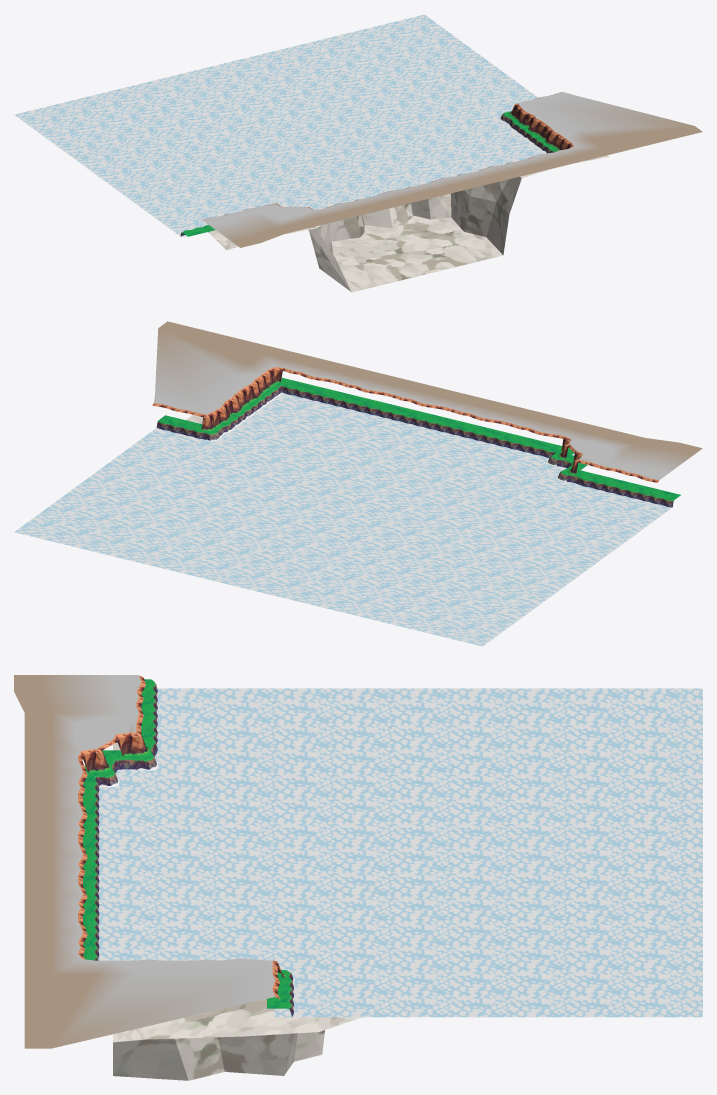
The picture shows the model from 3 angles, top to bottom: view 1: azimuth 30°, elevation 25°; view 2: azimuth 150°, elevation 25°; view 3: azimuth 270°, elevation 25°; orthographic projection. The views are drawn at different scales.
Parts seen in each view (by area): view 1: vsn_mesh_5_mesh5, vsn_mesh_2_mesh2, vsn_mesh_3_mesh3, vsn_mesh_4_mesh4; view 2: vsn_mesh_5_mesh5, vsn_mesh_3_mesh3, vsn_mesh_0_mesh0, vsn_mesh_1_mesh1, vsn_mesh_4_mesh4; view 3: vsn_mesh_5_mesh5, vsn_mesh_3_mesh3, vsn_mesh_2_mesh2, vsn_mesh_1_mesh1, vsn_mesh_4_mesh4, vsn_mesh_0_mesh0.
Boxes of the visible parts, x1,y1,x2,y2 form: vsn_mesh_5_mesh5: [14, 14, 545, 237]; vsn_mesh_2_mesh2: [208, 155, 609, 292]; vsn_mesh_3_mesh3: [202, 92, 702, 247]; vsn_mesh_4_mesh4: [202, 92, 573, 220]; vsn_mesh_5_mesh5: [14, 392, 673, 646]; vsn_mesh_3_mesh3: [154, 321, 702, 479]; vsn_mesh_0_mesh0: [156, 385, 673, 507]; vsn_mesh_1_mesh1: [158, 377, 680, 499]; vsn_mesh_4_mesh4: [152, 367, 659, 482]; vsn_mesh_5_mesh5: [98, 688, 702, 1017]; vsn_mesh_3_mesh3: [14, 675, 274, 1048]; vsn_mesh_2_mesh2: [113, 742, 361, 1080]; vsn_mesh_1_mesh1: [83, 679, 290, 1008]; vsn_mesh_4_mesh4: [78, 675, 287, 998]; vsn_mesh_0_mesh0: [93, 680, 293, 1016].
Size of the model in its own units: 846 by 169 by 637.
